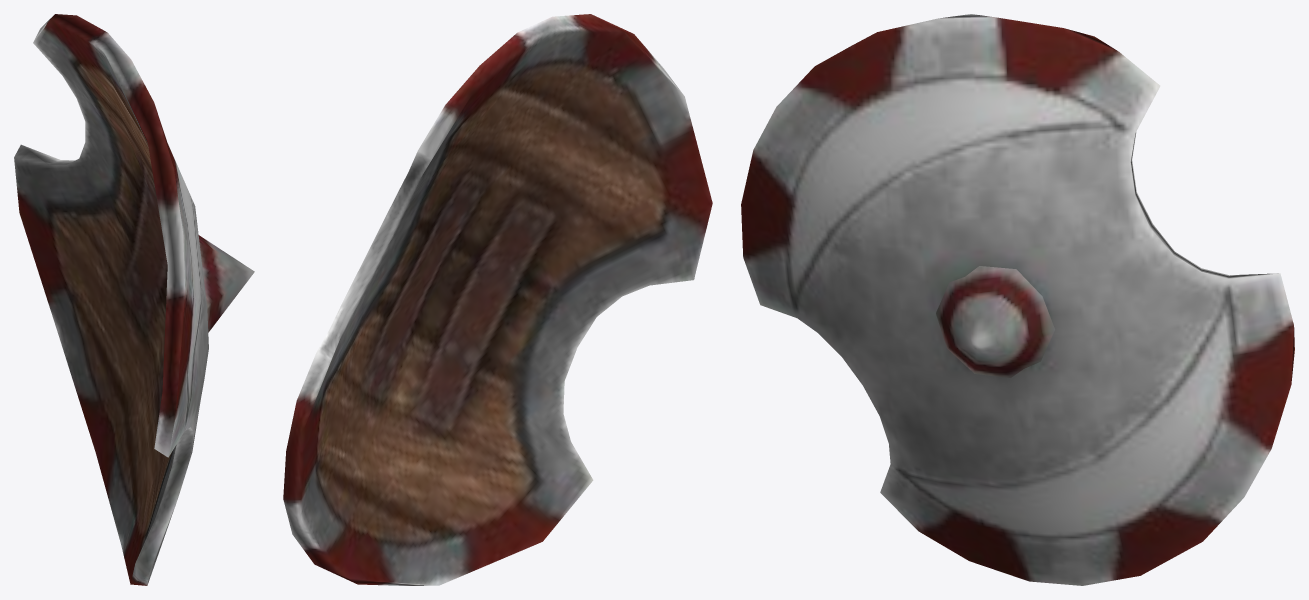
File: shield-bronzeshields.glb
The picture shows the model from 3 angles, left to right: view 1: azimuth 30°, elevation 25°; view 2: azimuth 150°, elevation 25°; view 3: azimuth 270°, elevation 25°; orthographic projection. The views are drawn at different scales.
Bounding box in the file's own units: 0.3656 × 0.9181 × 0.8533.
1 material, 1 textured.
